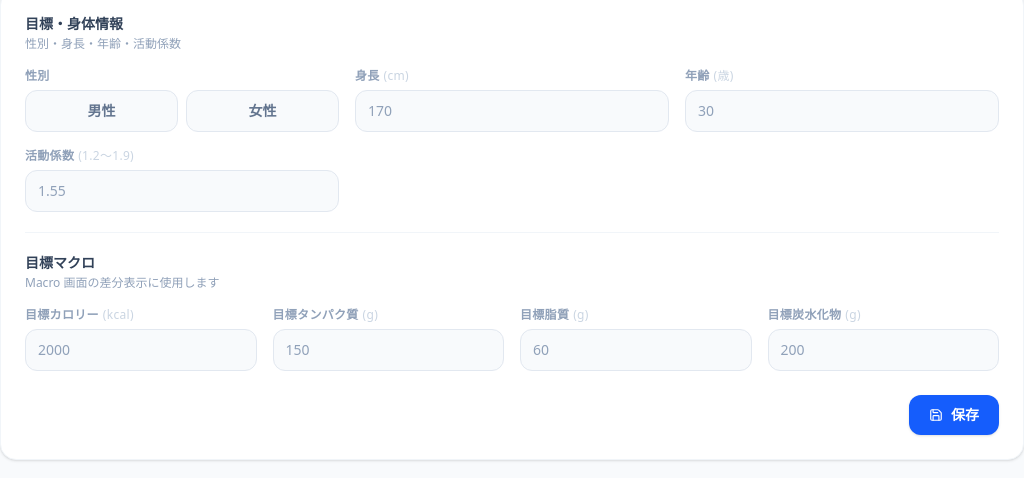
Test: SettingsForm — 保存失敗（バリデーションエラー） › saveSettings が { ok: false } を返すと「保存に失敗しました」が表示される
What coordinates should you click on to do the following:
click the button "保存"
I would click on:
 (954, 415)
Its box is [909, 395, 999, 435].
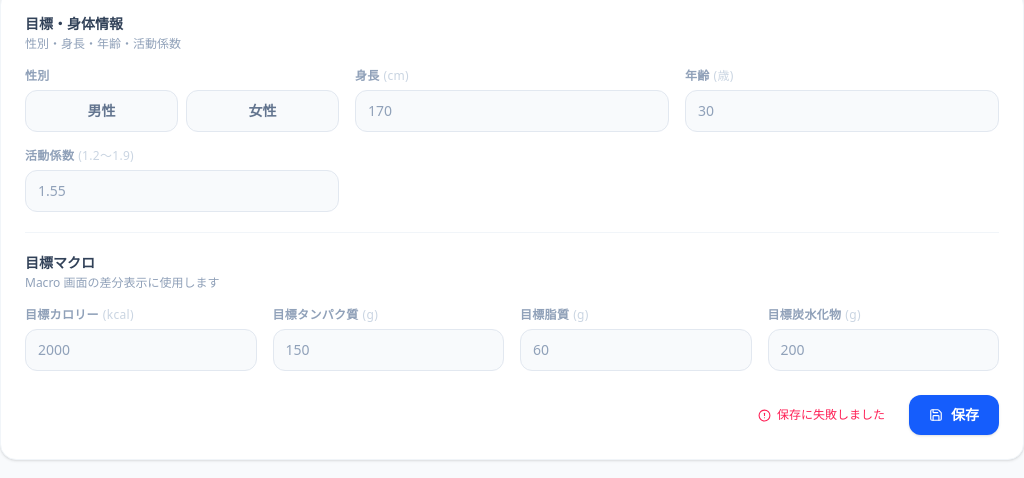
Result: the text "保存に失敗しました" is shown at [758, 407, 885, 423]
